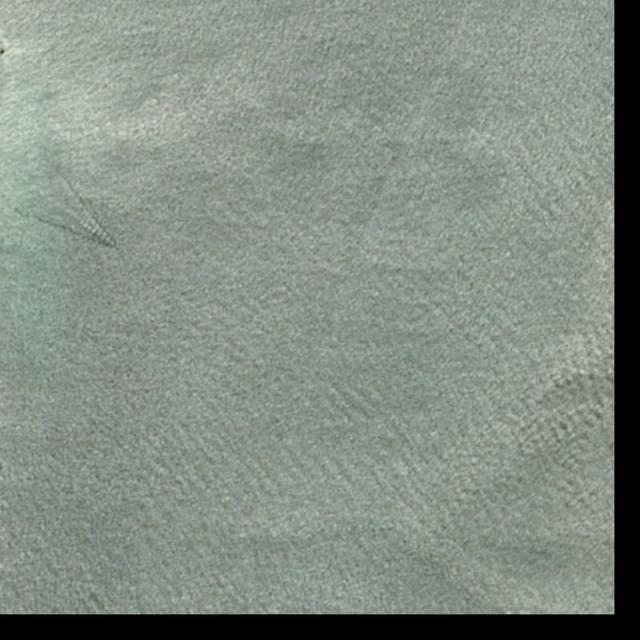ship: (115, 244, 122, 251)
